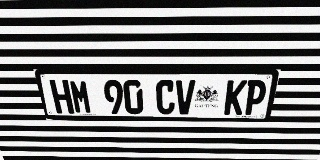0: (123, 80, 143, 114)
9: (103, 80, 125, 114)
C: (156, 80, 175, 114)
H: (49, 80, 74, 114)
K: (223, 80, 248, 115)
M: (68, 80, 93, 114)
P: (242, 80, 268, 115)
V: (175, 80, 195, 114)
